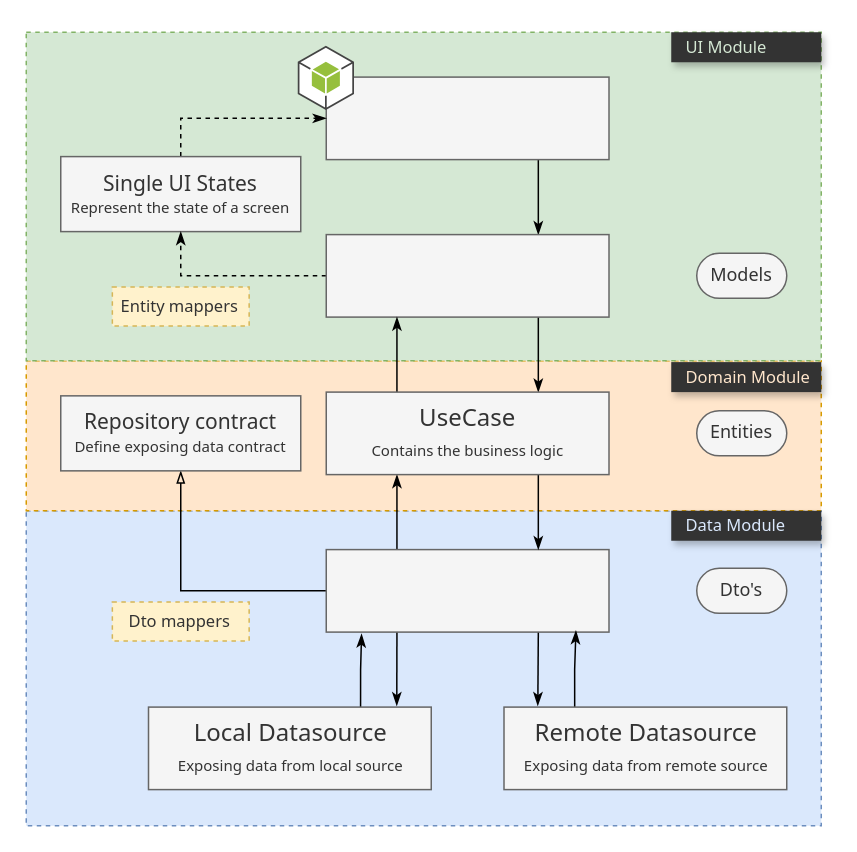
This 857x852 diagram has some shape labels left out. The shapes that lost their labels are listed below. From the top down, each one's centre as x and y in pixels, then its label:
the point at 467,118: U I components Display the application data
the point at 467,275: ViewModel Holds data and expose it to the UI
the point at 467,590: RepositoryImpl Expose multiple datasources
